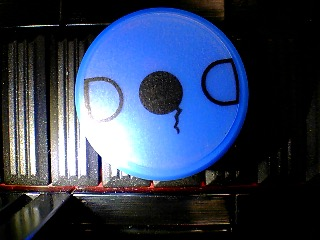CRACK: (74, 7, 249, 181)
